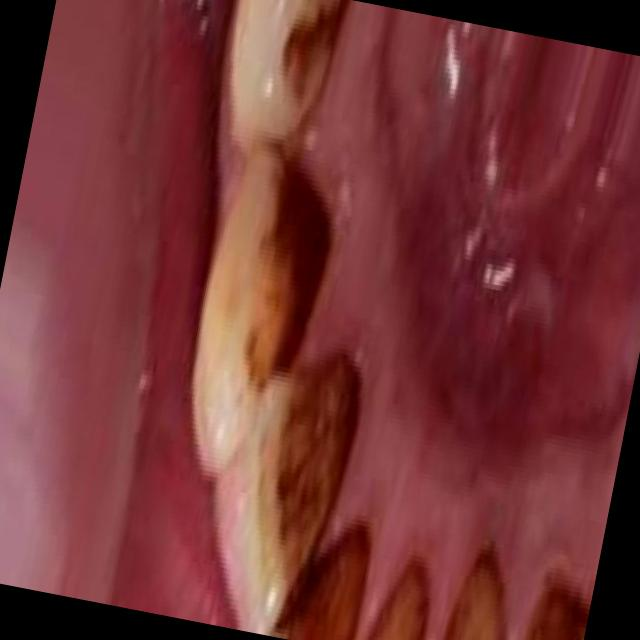calculus: (233, 323, 376, 606), (202, 169, 342, 456), (234, 0, 356, 142), (300, 509, 388, 640), (425, 533, 519, 640), (361, 536, 444, 640), (519, 574, 594, 640)
